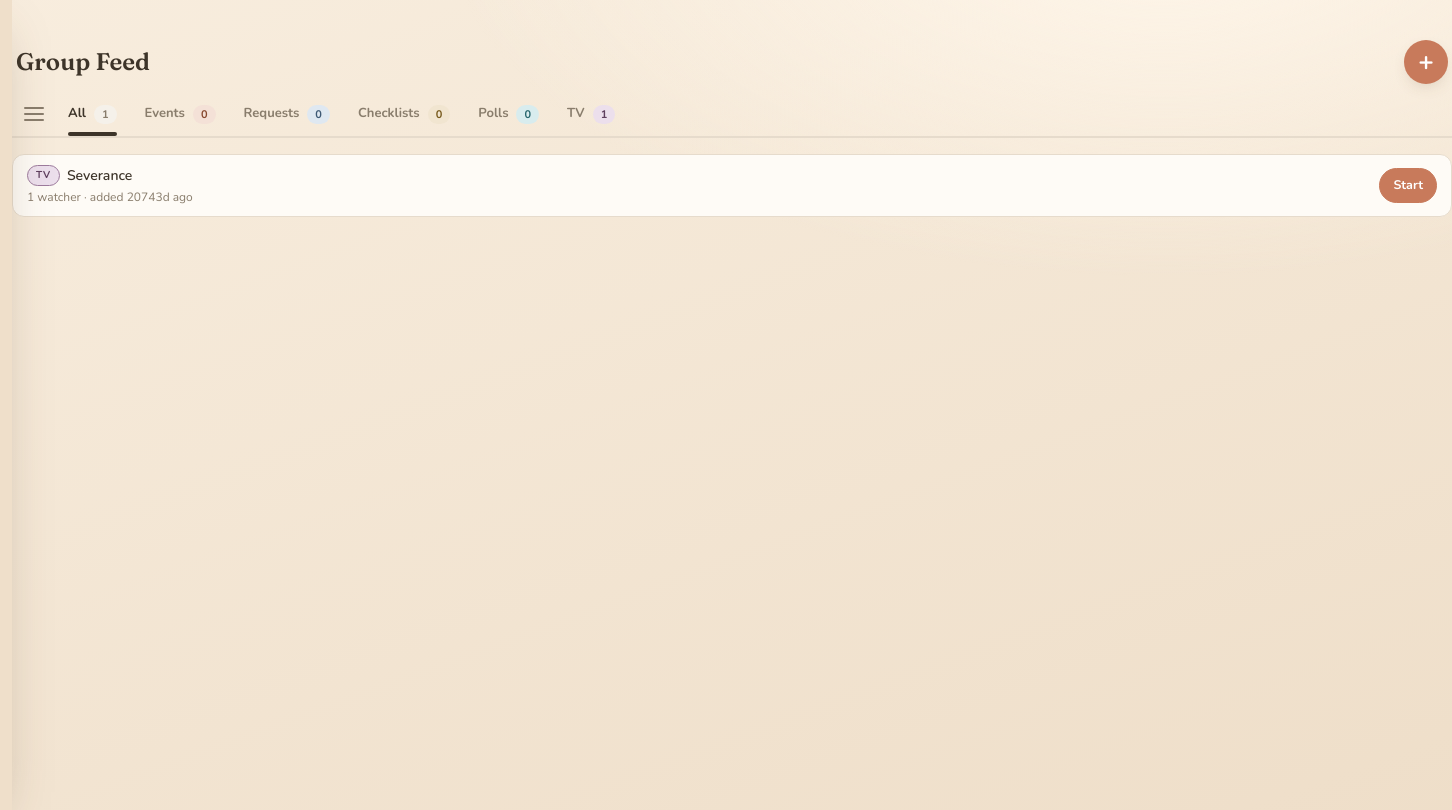
Test case: GroupFeed module focus › keeps the TV progress-chip hold editor
Click the text "Severance": click(100, 176) [67,165,132,186]
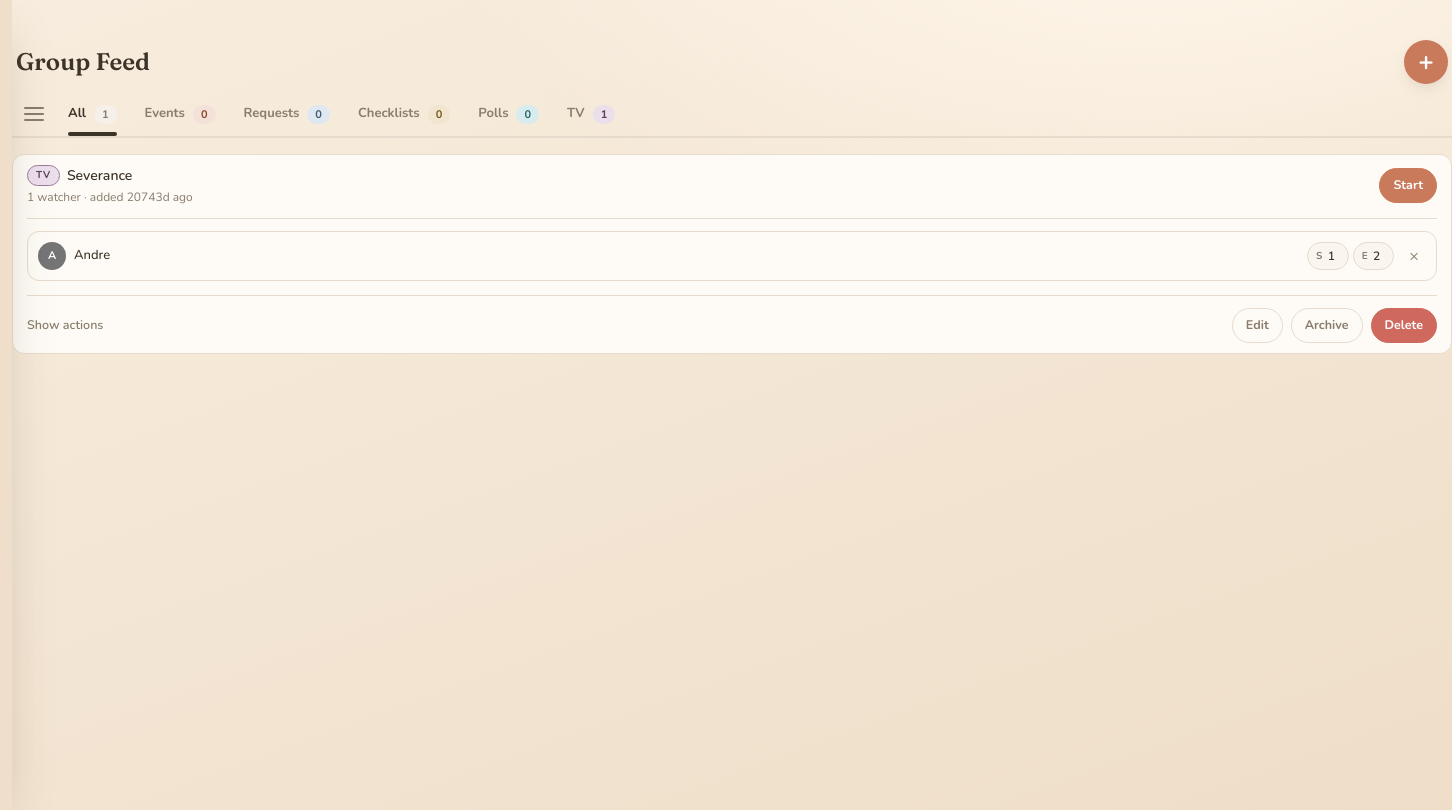
Press the mouse on the button titled "Tap to advance season; long-press to edit": (1328, 256) [1307,242,1349,270]
Wait 1000 ms
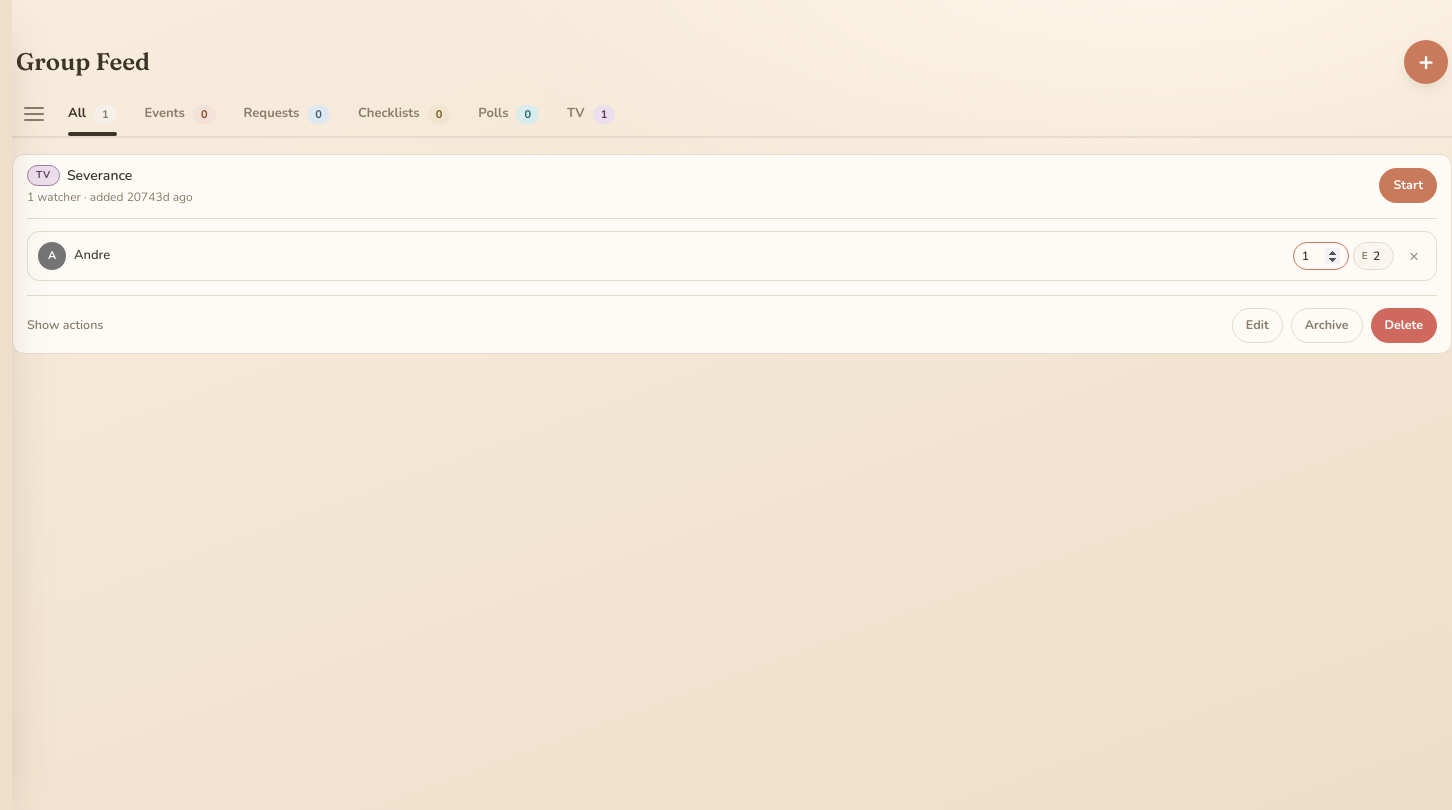
Result: the number field named "Set Andre's season" holds "1" at [1293,242,1349,270]
